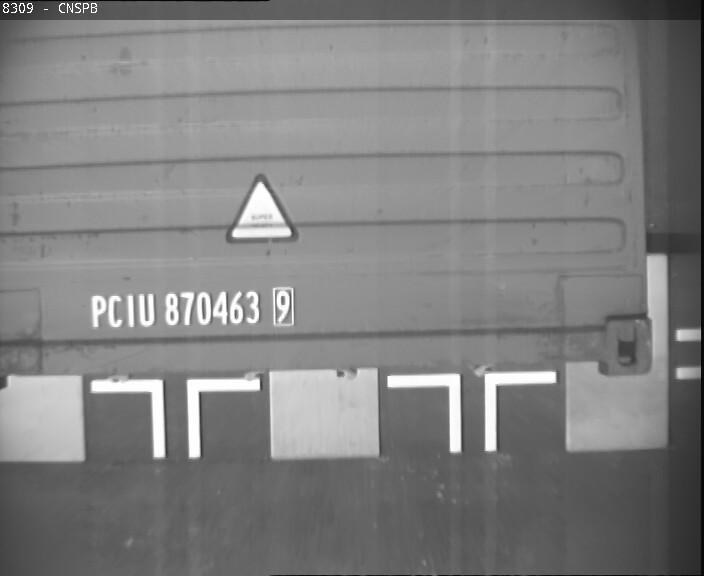groundmarker_1: (387, 370, 555, 451), (91, 378, 259, 459)
